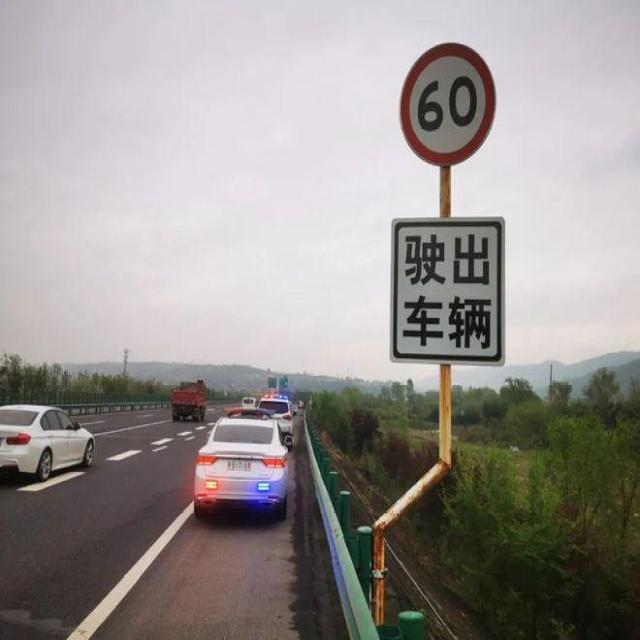speed limit 60: (397, 40, 496, 171)
